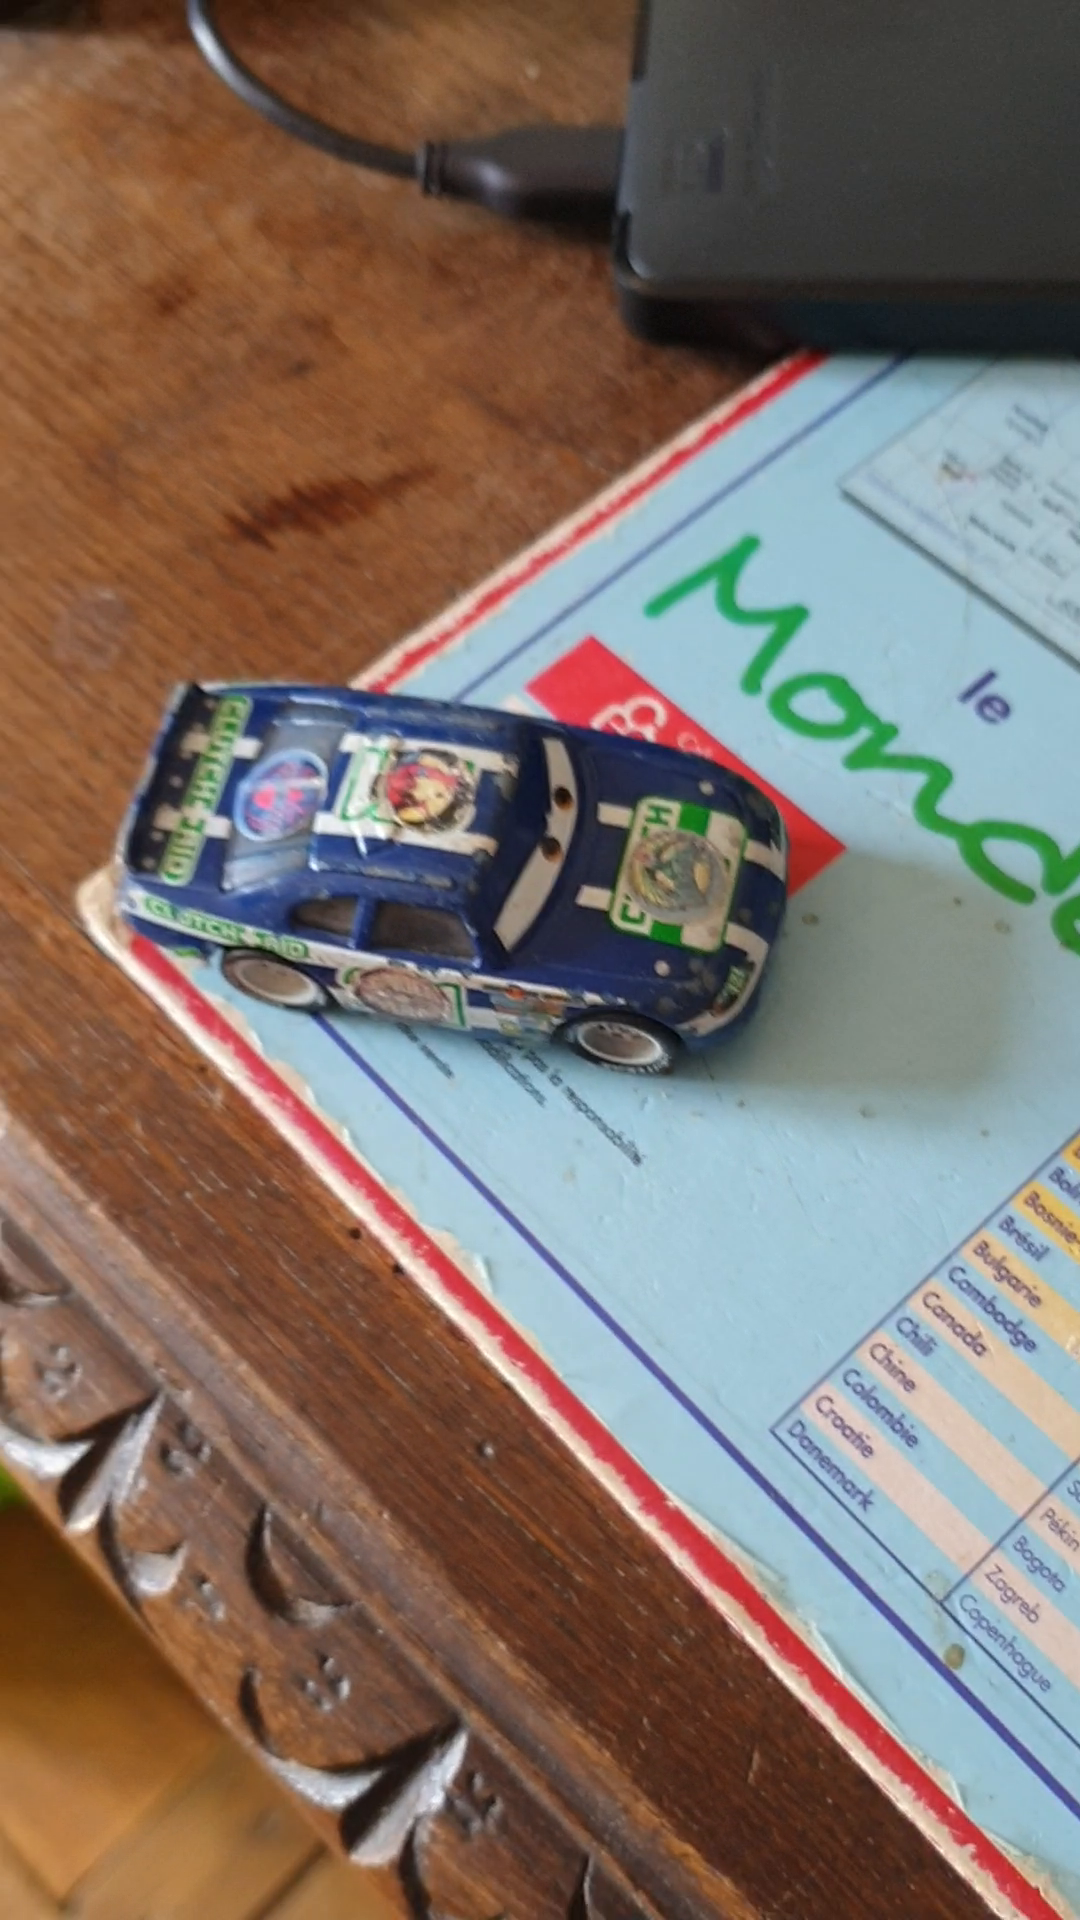cars: (108, 676, 789, 1084)
